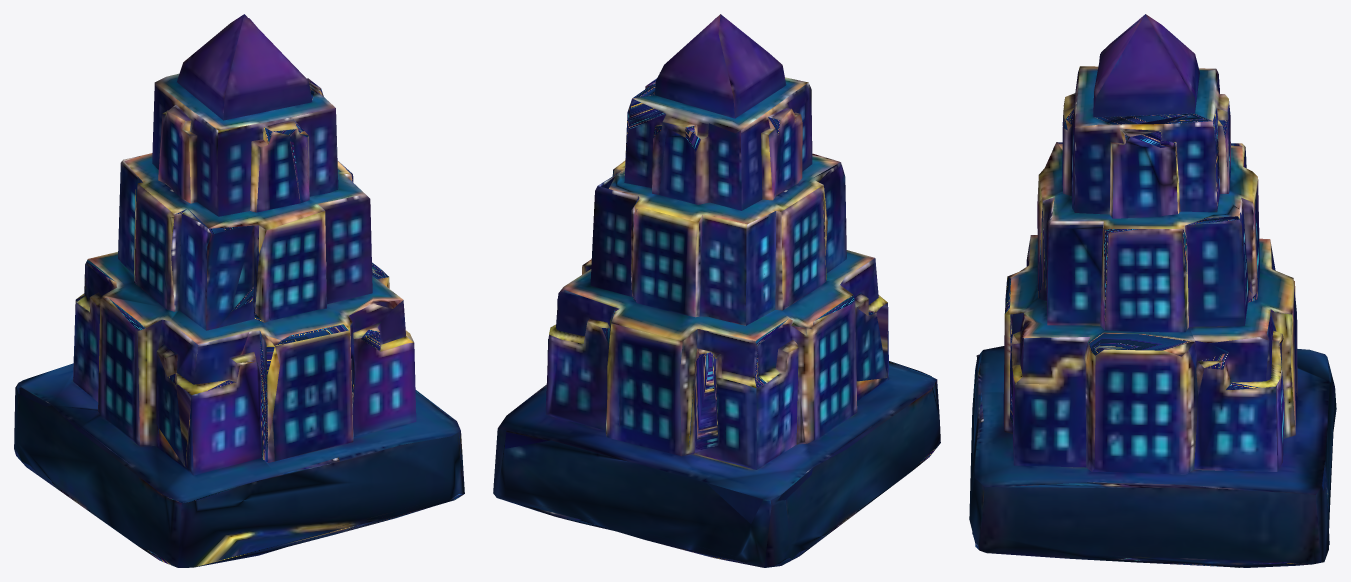
File: tower-b-lite.glb
The picture shows the model from 3 angles, left to right: view 1: azimuth 30°, elevation 25°; view 2: azimuth 150°, elevation 25°; view 3: azimuth 270°, elevation 25°; orthographic projection. The views are drawn at different scales.
Parts seen in each view (by area): view 1: geometry_0; view 2: geometry_0; view 3: geometry_0.
Boxes of the visible parts, <box> form: geometry_0: <box>14,14,464,567</box>; geometry_0: <box>493,14,940,567</box>; geometry_0: <box>969,14,1336,567</box>.
Bounding box in the file's own units: 0.5491 × 0.8098 × 0.5584.
Materials: 1 (1 with a texture image).
